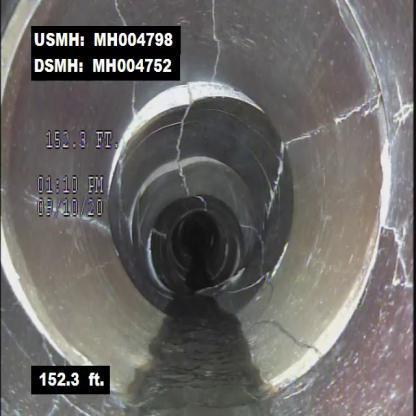Buckling: (124, 81, 277, 167)
Crack: (288, 91, 382, 152), (377, 208, 415, 309), (265, 315, 335, 365), (200, 3, 233, 76)
